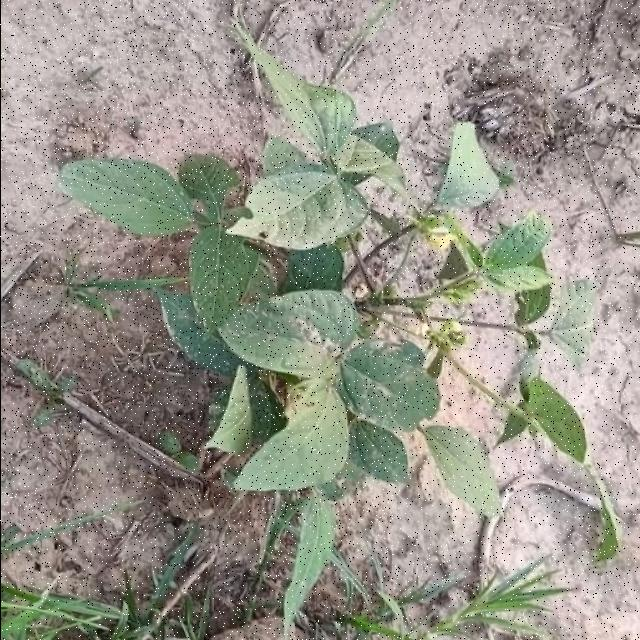plant: (60, 26, 619, 624)
